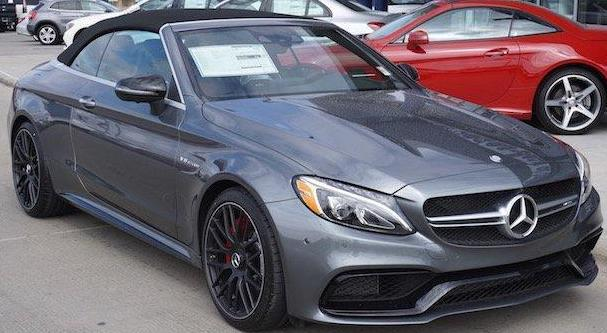C63AMG: (6, 8, 606, 333)
